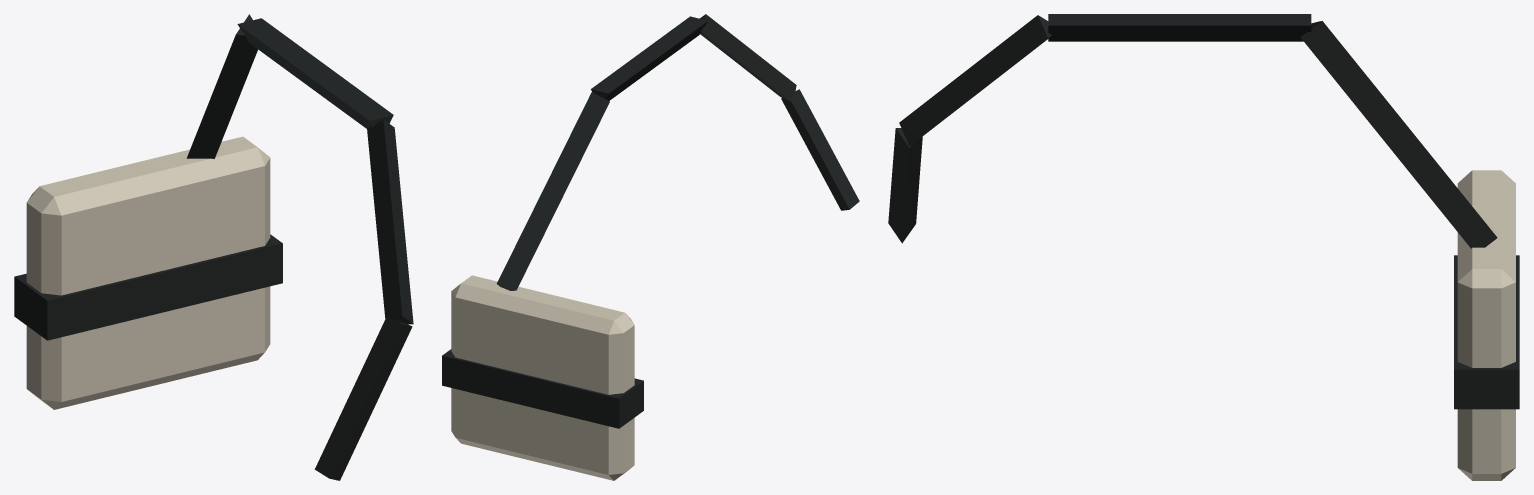
File: acc-subway-tote.high.0720672c.glb
The picture shows the model from 3 angles, left to right: view 1: azimuth 30°, elevation 25°; view 2: azimuth 150°, elevation 25°; view 3: azimuth 270°, elevation 25°; orthographic projection. The views are drawn at different scales.
Visible parts, largest first — view 1: acc-subway-tote; view 2: acc-subway-tote; view 3: acc-subway-tote.
Boxes of the visible parts, x1,y1,x2,y2 form: acc-subway-tote: (14,14,413,480); acc-subway-tote: (442,14,859,480); acc-subway-tote: (888,14,1519,480).
Bounding box in the file's own units: 0.3749 × 0.6358 × 0.864.
